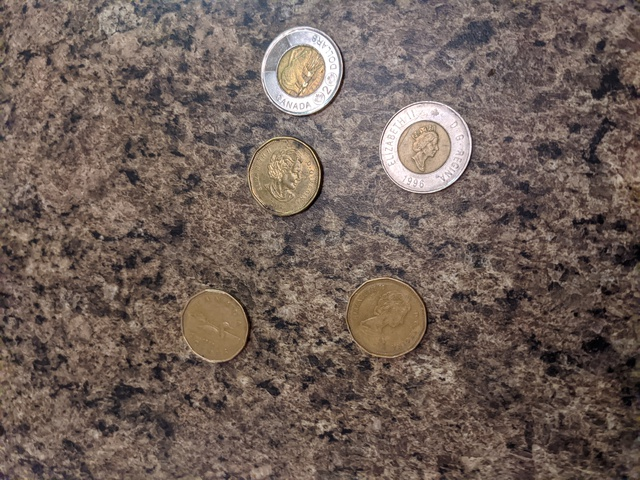loonie: (332, 259, 445, 373), (237, 129, 329, 214), (171, 285, 266, 364)
twonie: (375, 94, 473, 198), (253, 24, 346, 107)
